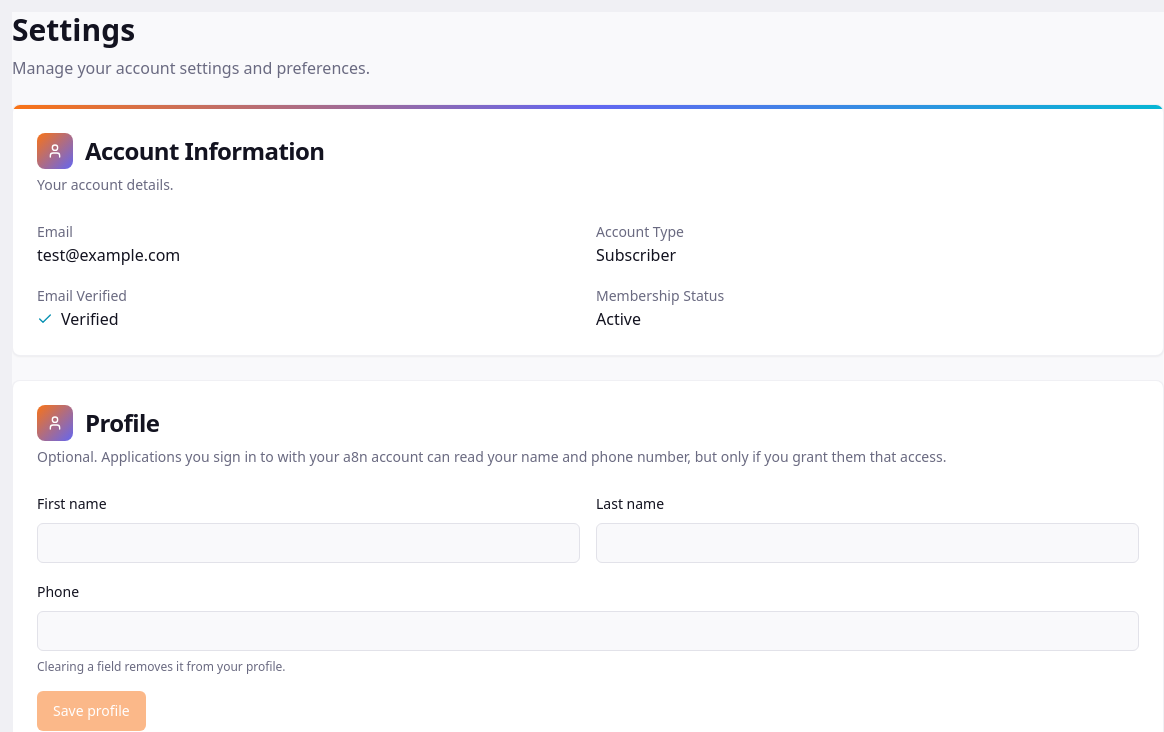
Test: SettingsPage profile form › keeps save disabled until something changes
Expected: the button "Save profile" is disabled, [37,691,146,731]
Type "Ada" into the field labelled "First name". click: (308, 543)
box: [37,523,580,563]
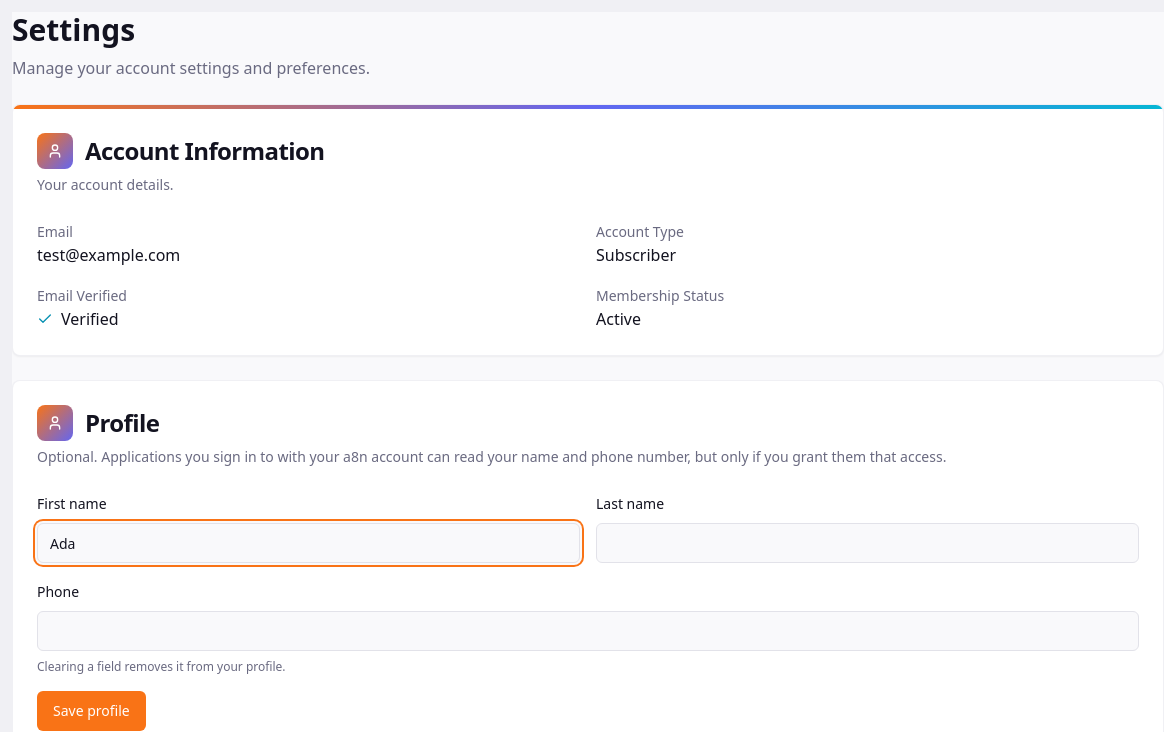
Expected: the button "Save profile" is enabled, [37,691,146,731]
